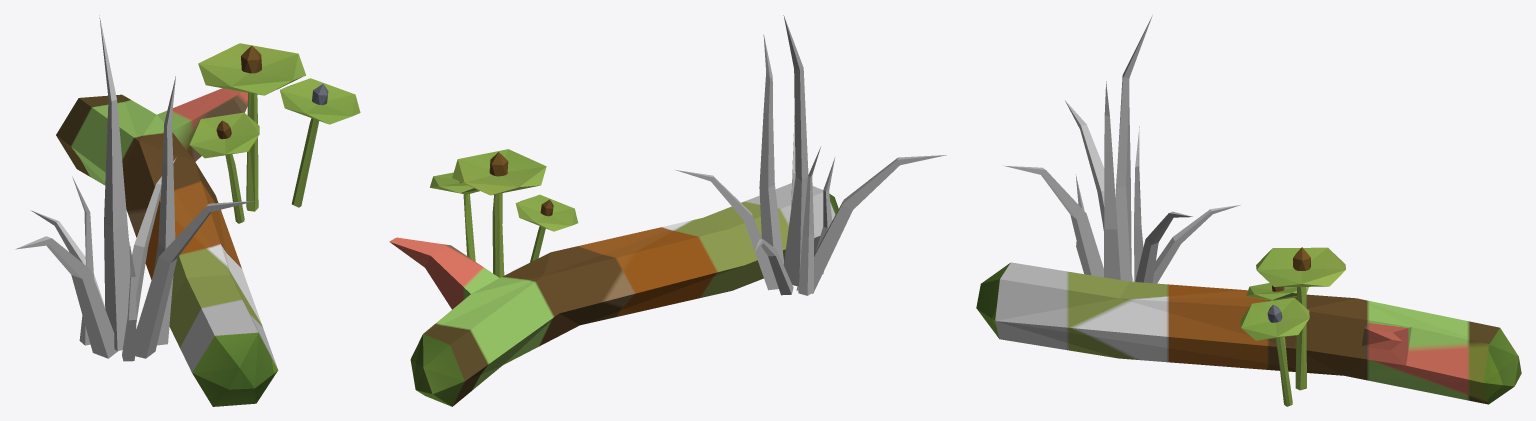
Rendered from Branch_04.fbx.
3 views of the same model, side by side, from view 1: azimuth 30°, elevation 25°; view 2: azimuth 150°, elevation 25°; view 3: azimuth 270°, elevation 25° (orthographic). The views are drawn at different scales.
Visible parts, largest first — view 1: Branch_04; view 2: Branch_04; view 3: Branch_04.
Part boxes in pixels (x1,y1,x2,y2): Branch_04: [15, 15, 360, 406]; Branch_04: [389, 15, 946, 406]; Branch_04: [976, 15, 1521, 406].
Size of the model in its own units: 1.28 by 0.9127 by 1.5.
